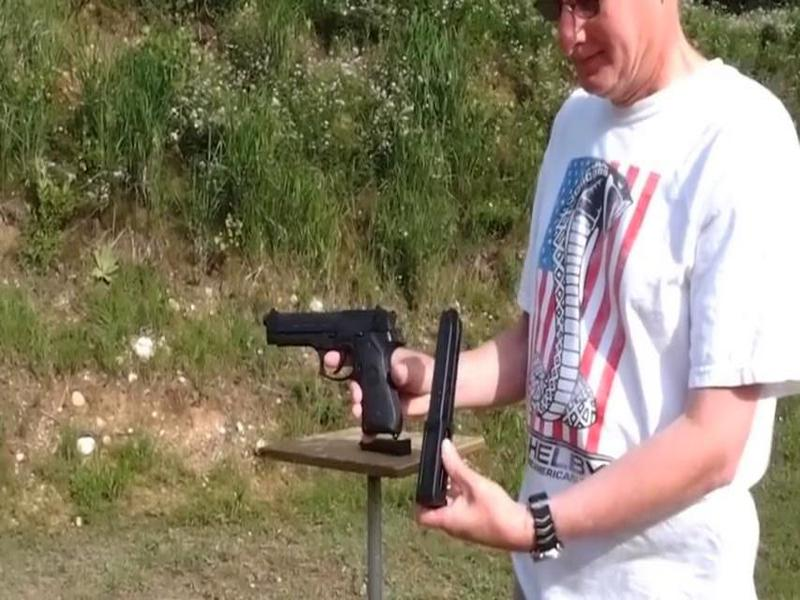Pistola: (262, 293, 410, 436)
